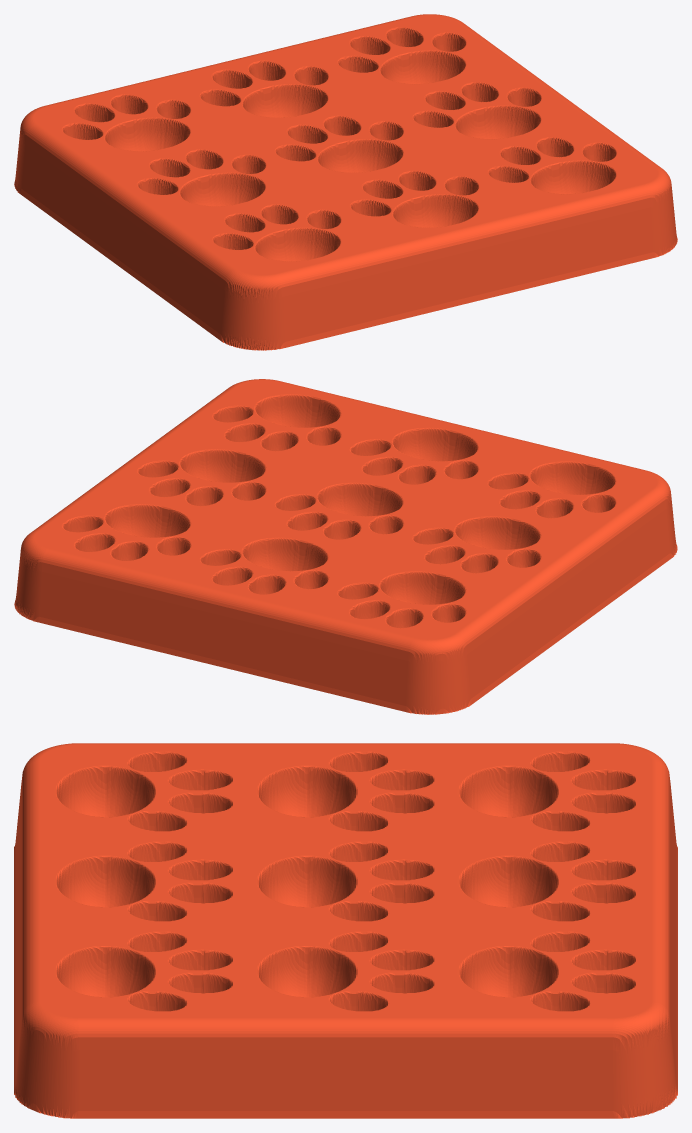
Rendered from mold.glb.
3 renders of one model, top to bottom at view 1: azimuth 30°, elevation 25°; view 2: azimuth 150°, elevation 25°; view 3: azimuth 270°, elevation 25°, orthographic. The views are drawn at different scales.
Visible parts, largest first — view 1: geometry_0; view 2: geometry_0; view 3: geometry_0.
Part boxes in pixels (<box>): geometry_0: <box>14,14,677,350</box>; geometry_0: <box>14,379,677,714</box>; geometry_0: <box>14,743,677,1118</box>.
Size of the model in its own units: 0.0964 by 0.0136 by 0.0916.
